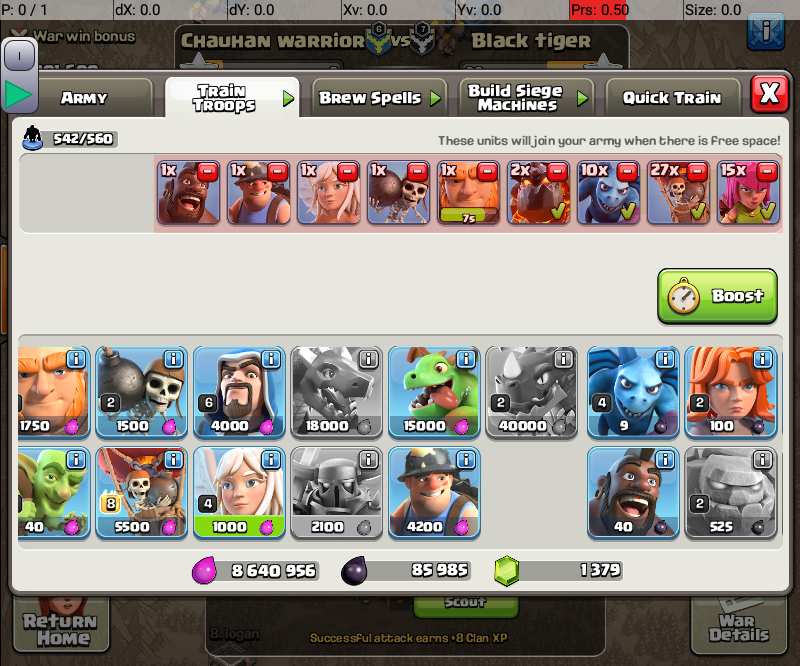archer: (719, 160, 779, 225)
babydragon: (388, 348, 479, 436)
dragon: (292, 346, 382, 438)
electro: (487, 346, 576, 435)
giant: (16, 347, 90, 434), (439, 160, 501, 208)
goblin: (19, 447, 92, 539)
golem: (686, 447, 776, 537)
healer: (196, 446, 285, 515), (300, 161, 360, 225)
hog: (587, 448, 678, 535), (159, 161, 220, 226)
lava: (507, 160, 573, 223)
loon: (96, 447, 185, 536), (650, 160, 710, 223)
miner: (392, 447, 482, 536), (230, 160, 290, 224)
minion: (591, 349, 678, 438), (581, 160, 643, 226)
pekka: (291, 448, 383, 517)
valk: (689, 347, 775, 438)
wallbreaker: (95, 347, 186, 436), (367, 161, 430, 225)
wizard: (195, 347, 282, 436)
